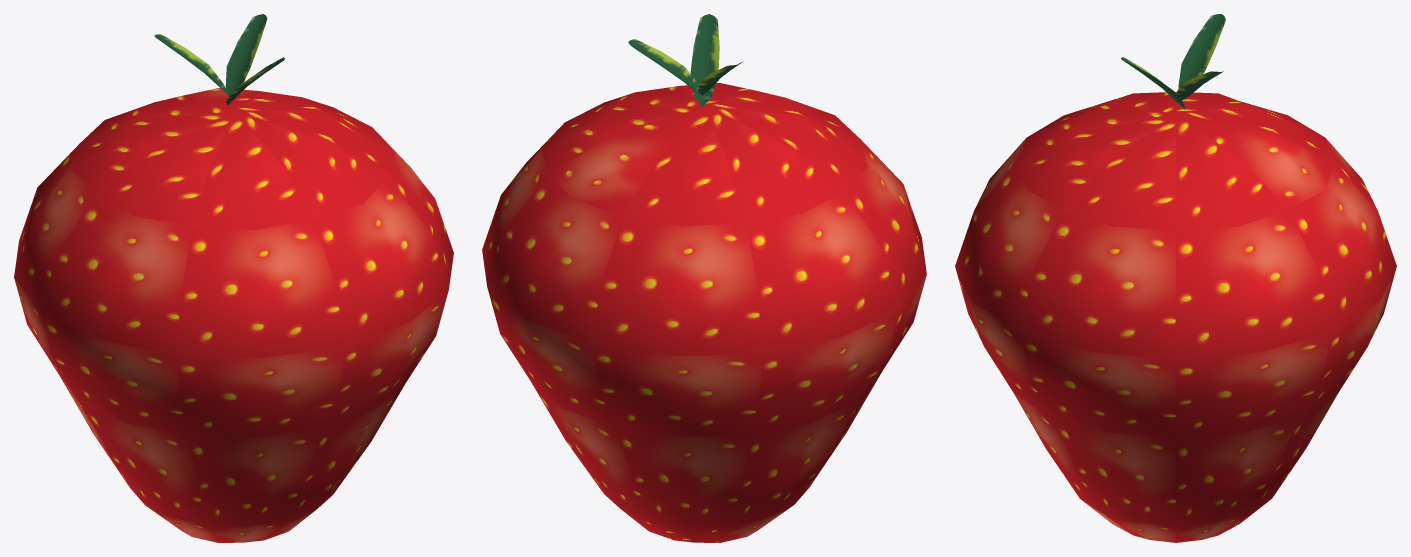
File: strabery.FBX
3 views of the same model, side by side, from view 1: azimuth 30°, elevation 25°; view 2: azimuth 150°, elevation 25°; view 3: azimuth 270°, elevation 25° (orthographic).
Visible parts, largest first — view 1: Plane003; view 2: Plane003; view 3: Plane003.
Boxes of the visible parts, <box> form: Plane003: <box>14,14,453,542</box>; Plane003: <box>482,14,926,542</box>; Plane003: <box>955,14,1396,542</box>.
Size of the model in its own units: 4.54 by 5.64 by 4.54.
